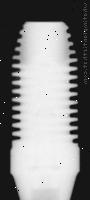BioHorizons: (10, 20, 80, 200)
